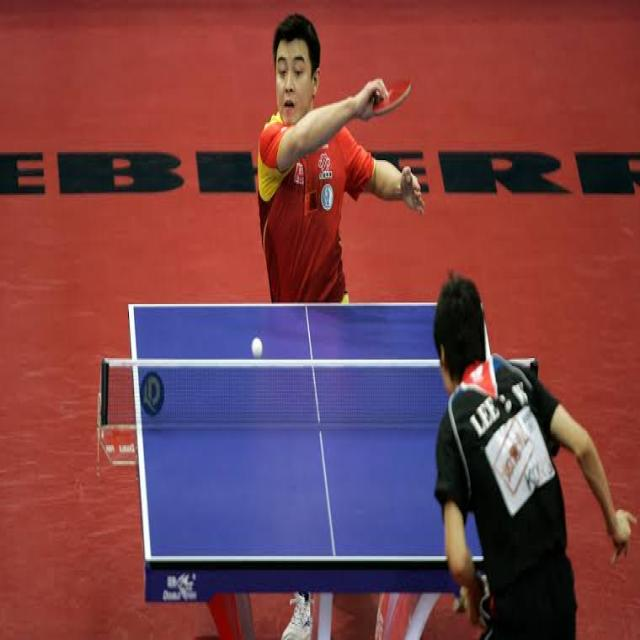TT Net: (99, 354, 545, 438)
TT Racket: (362, 66, 422, 129)
TT Table: (128, 296, 518, 560)
